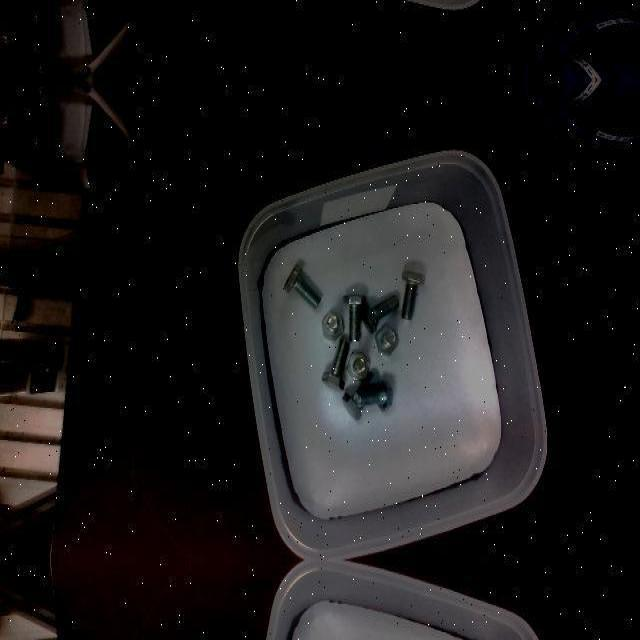screw: (284, 264, 321, 310), (321, 337, 349, 391), (360, 294, 399, 332), (353, 380, 392, 412), (401, 270, 425, 320), (343, 294, 366, 342), (375, 323, 398, 357), (321, 310, 344, 342), (347, 351, 370, 381)
